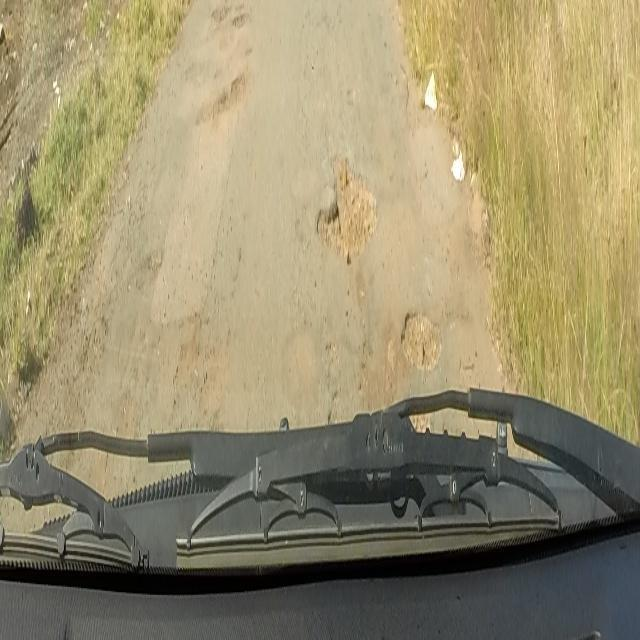pothole: (314, 146, 378, 263), (196, 69, 254, 127), (400, 306, 442, 372), (211, 0, 252, 35)
